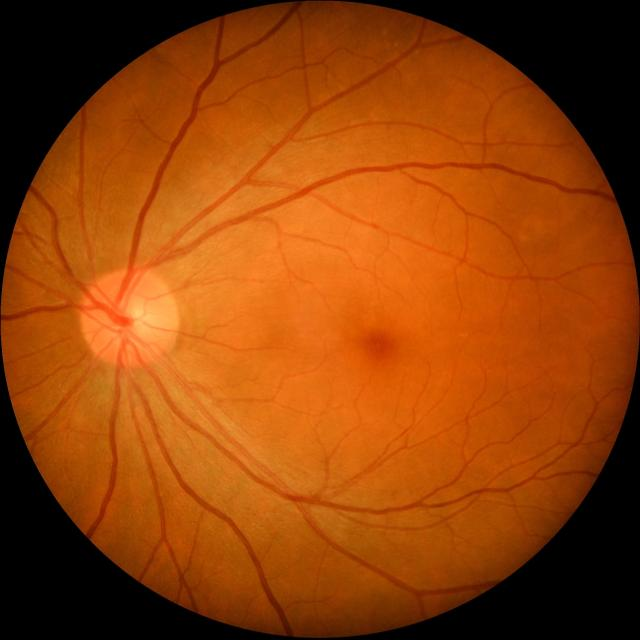OC: (110, 298, 153, 338)
OD: (80, 267, 178, 366)
